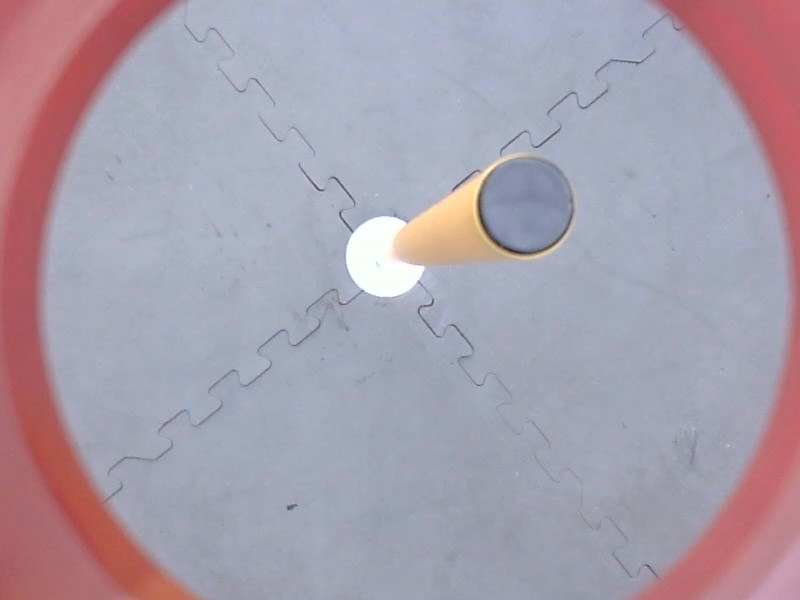tip: (468, 146, 584, 264)
